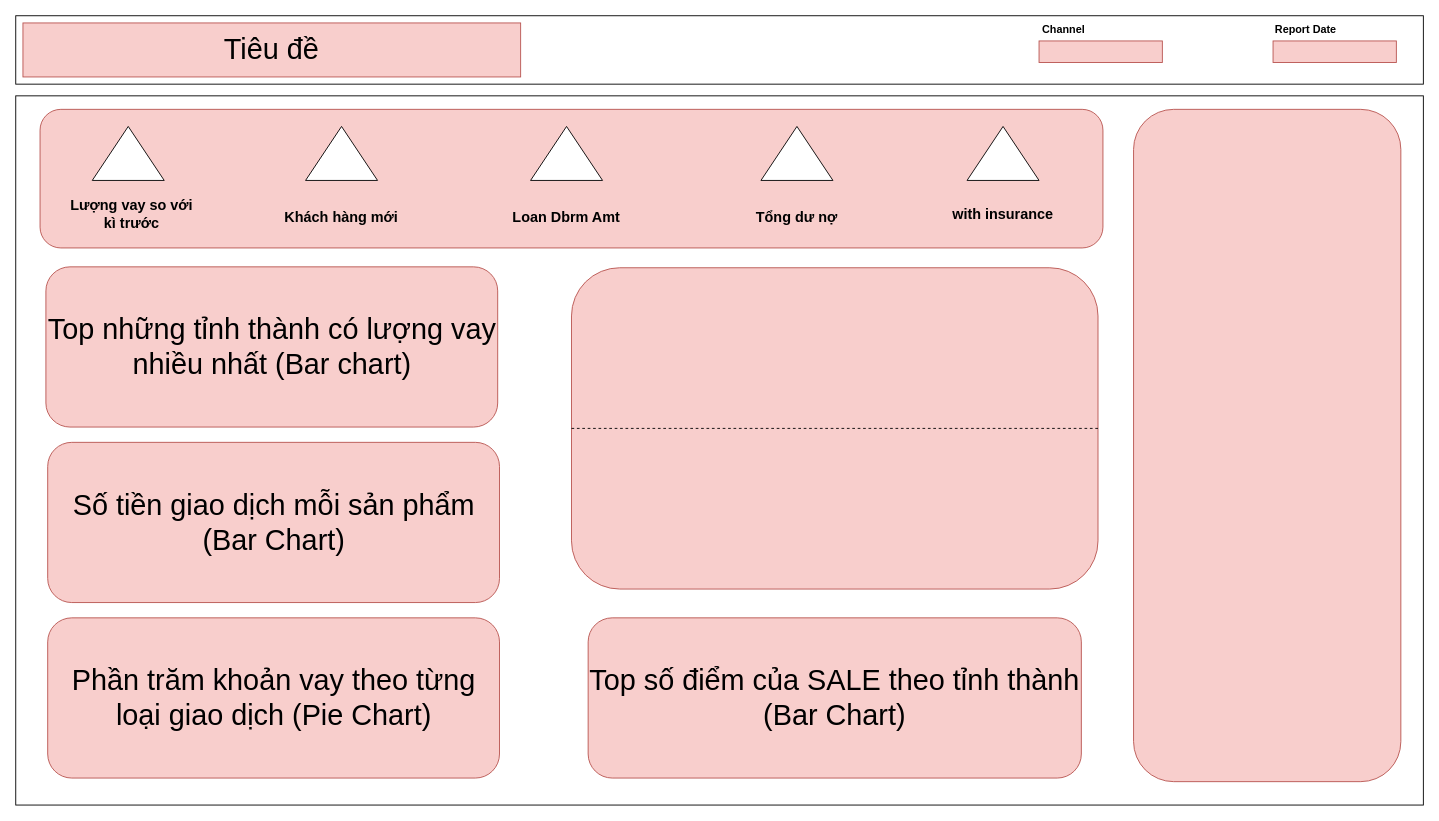
Some shapes in this 1439 by 821 pixel diagram are drawn without their labels. Each missing label, with the centre of its shape:
"Daily Conversion Tracking 1,2,3,5,6 (Line Chart)" goes at [834,428].
"Số địa điểm bán hàng từng vùng miền (Map Chart)" goes at [1267,445].
